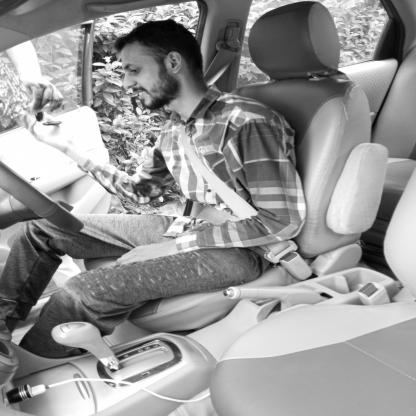seatbelt: (113, 20, 248, 188)
